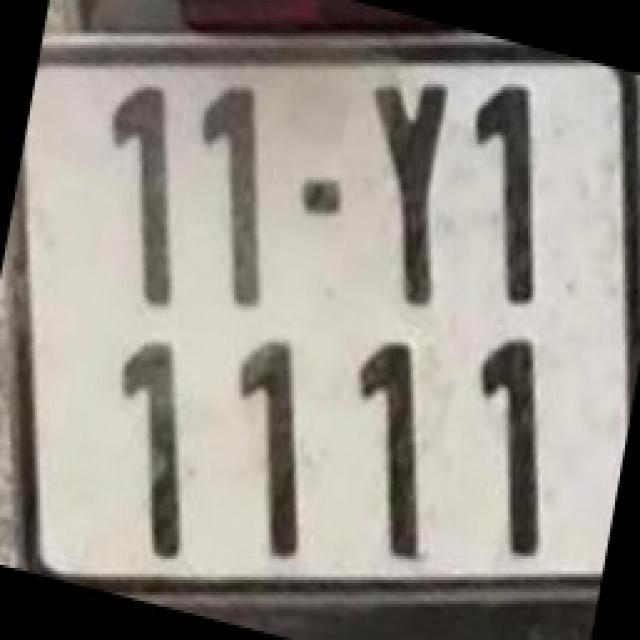1: (354, 336, 434, 565), (107, 78, 187, 307), (476, 333, 556, 562), (197, 78, 274, 310), (470, 78, 546, 307), (234, 336, 311, 562), (117, 336, 192, 565)
Y: (374, 70, 454, 320)
